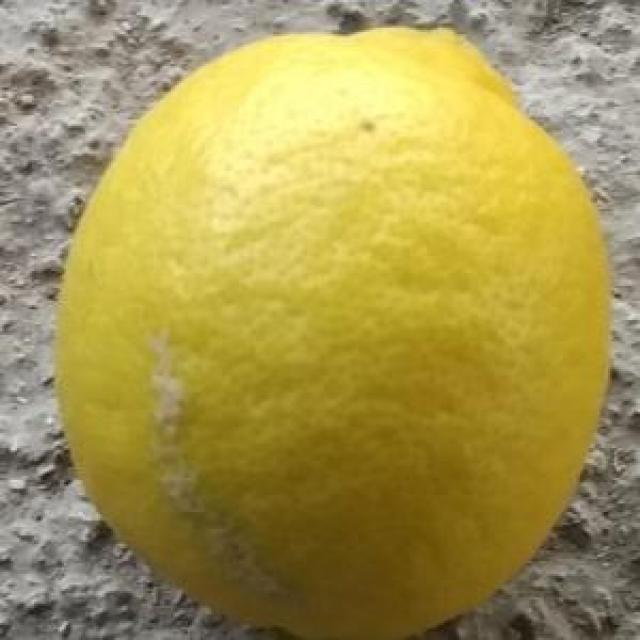lemon: (56, 26, 614, 640)
